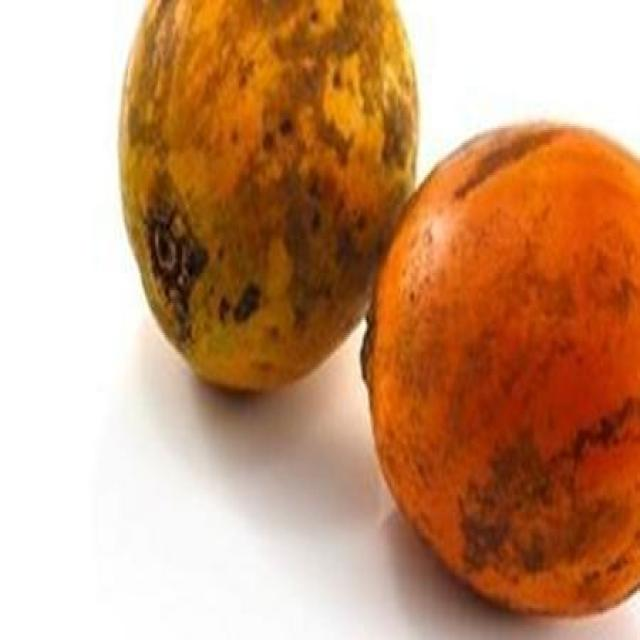good: (360, 124, 639, 619), (118, 0, 420, 397)
